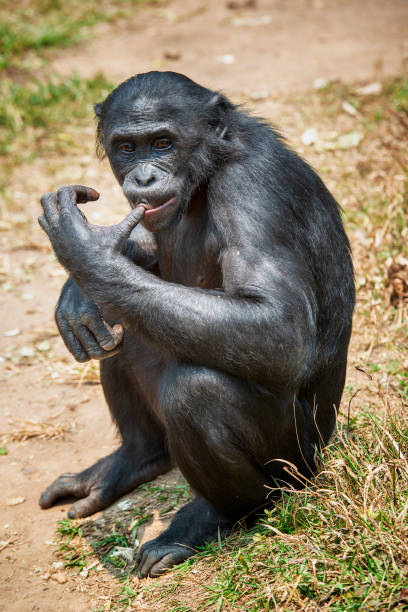chimpanzee: (72, 58, 248, 252)
